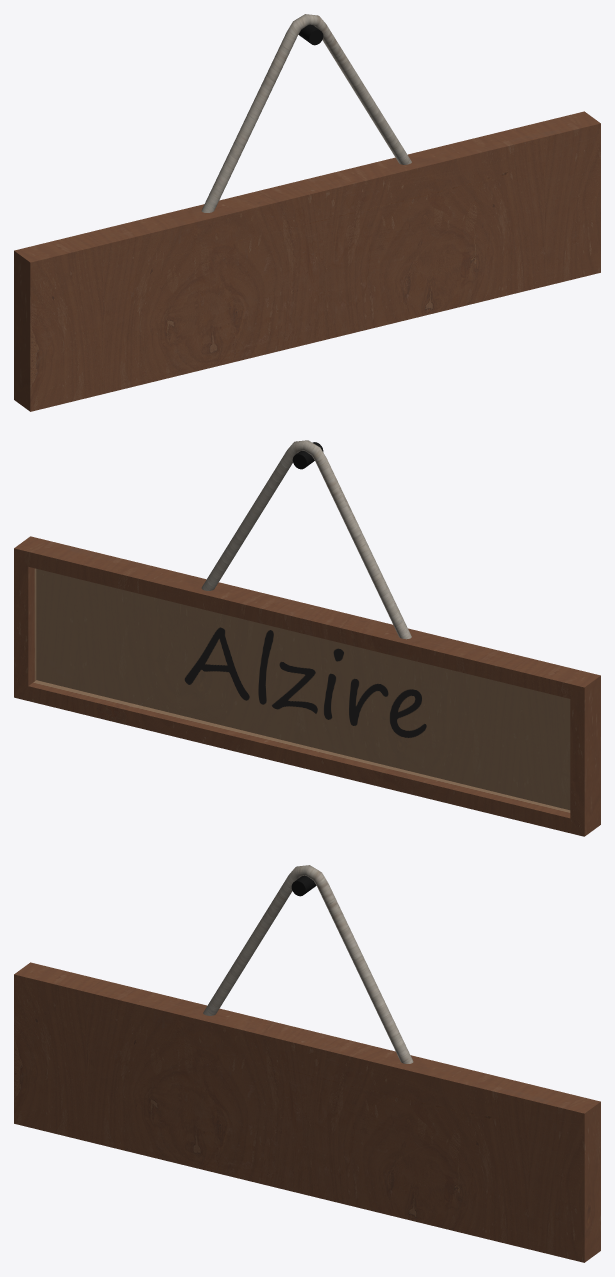
File: Chambre_Pancarte_1.fbx
3 views of the same model, one above another, from view 1: azimuth 30°, elevation 25°; view 2: azimuth 150°, elevation 25°; view 3: azimuth 330°, elevation 25° (orthographic).
Parts seen in each view (by area): view 1: Box001; view 2: Box001; view 3: Box001.
Part boxes in pixels (x1,y1,x2,y2): Box001: [14, 14, 600, 411]; Box001: [14, 440, 600, 836]; Box001: [14, 865, 600, 1262].
Bounding box in the file's own units: 0.4 × 0.2152 × 0.0207.
Materials: 3 (2 with a texture image).
